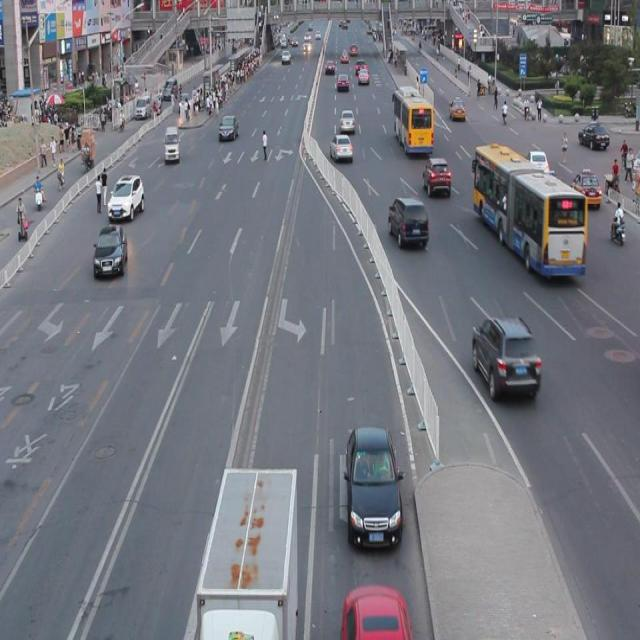BigCar: (478, 136, 574, 257), (204, 472, 288, 610), (386, 71, 443, 165)
car: (345, 424, 404, 555), (468, 308, 545, 397), (338, 573, 410, 640), (84, 215, 134, 293), (550, 140, 606, 206), (408, 138, 463, 205), (576, 96, 636, 155), (389, 182, 428, 272), (442, 65, 479, 138), (108, 171, 143, 230), (334, 89, 363, 143), (156, 129, 183, 172), (326, 129, 353, 165), (222, 105, 241, 147)
